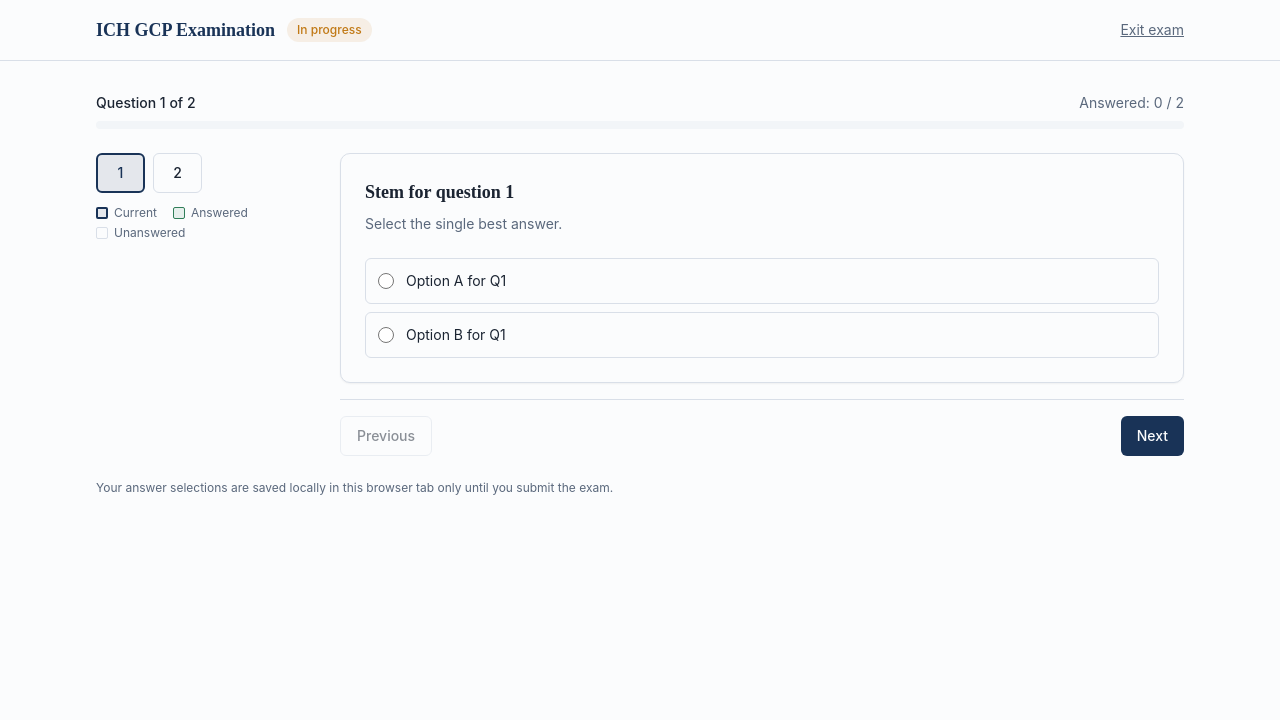
Test: Exam attempt page › disables Previous on the first question and Next on the last
Expected: the heading "Stem for question 1" is shown, [365,182,514,202]
Expected: the button "Previous" is disabled, [340,416,432,456]
Click the button "Next" at x=1152, y=436, box [1121,416,1184,456]
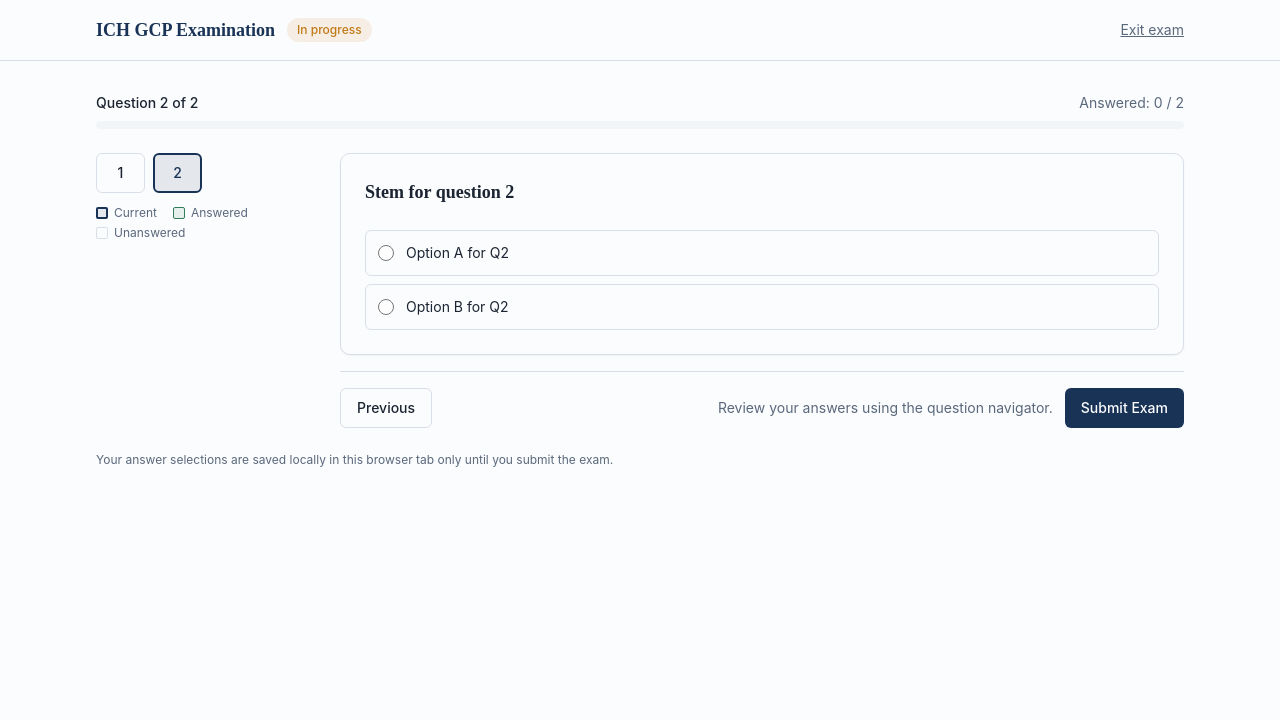
Expected: the heading "Stem for question 2" is shown, [365,182,514,202]
Expected: the button "Previous" is enabled, [340,388,432,428]
Expected: the button "Next" is gone
